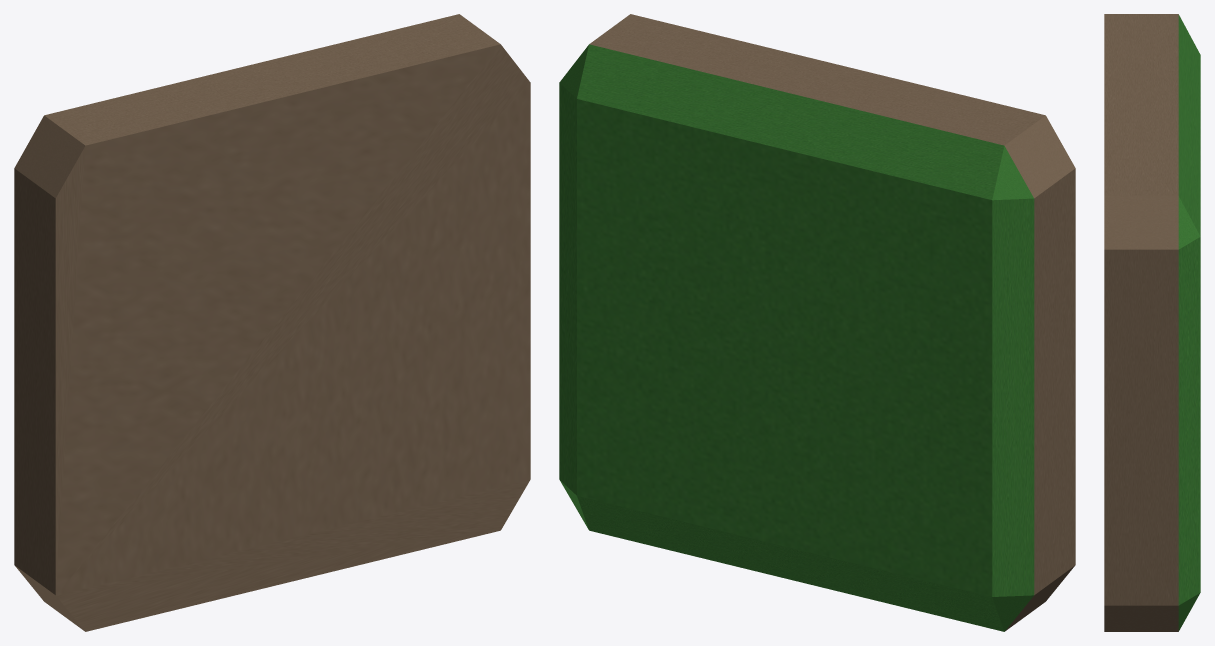
Rendered from de_green_3.fbx.
3 renders of one model, left to right at view 1: azimuth 30°, elevation 25°; view 2: azimuth 150°, elevation 25°; view 3: azimuth 270°, elevation 25°, orthographic. The views are drawn at different scales.
Parts seen in each view (by area): view 1: Cube.308; view 2: Cube.308; view 3: Cube.308.
Boxes of the visible parts, x1,y1,x2,y2 form: Cube.308: (14, 14, 530, 631); Cube.308: (559, 14, 1075, 631); Cube.308: (1104, 14, 1200, 631).
Size of the model in its own units: 399 by 390 by 78.
